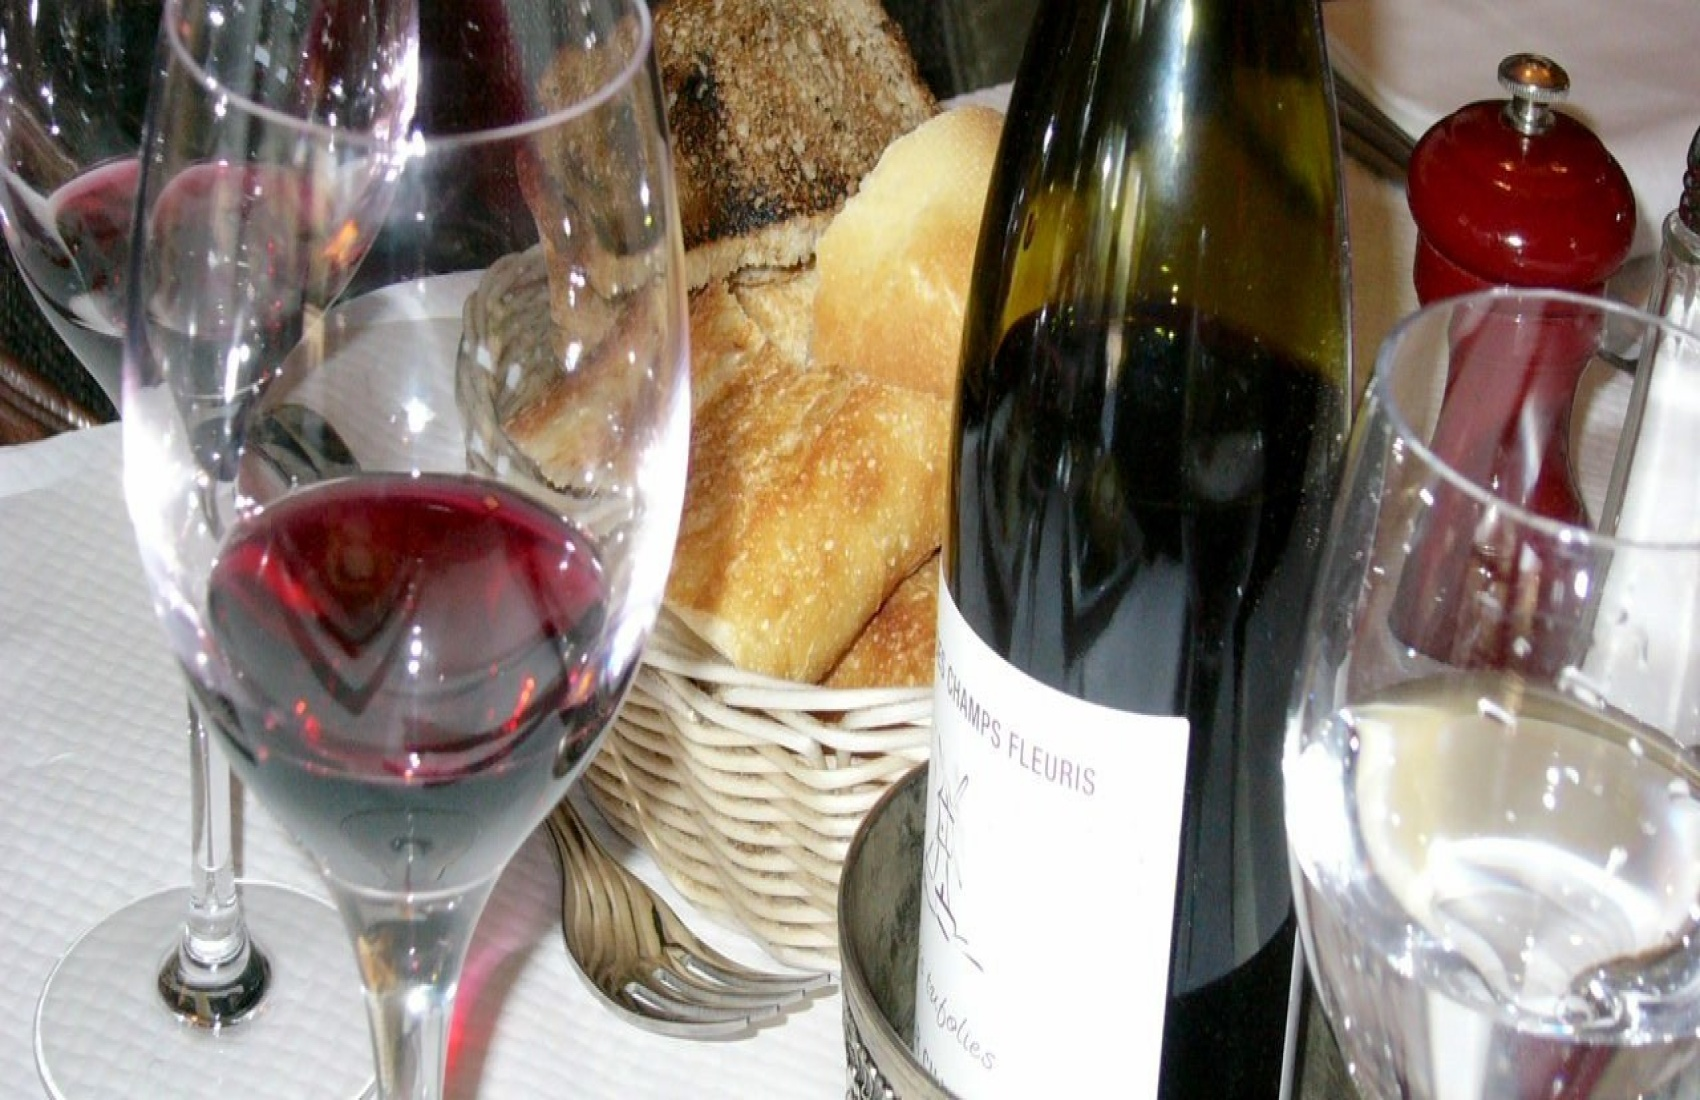wine: (943, 19, 1349, 1100)
